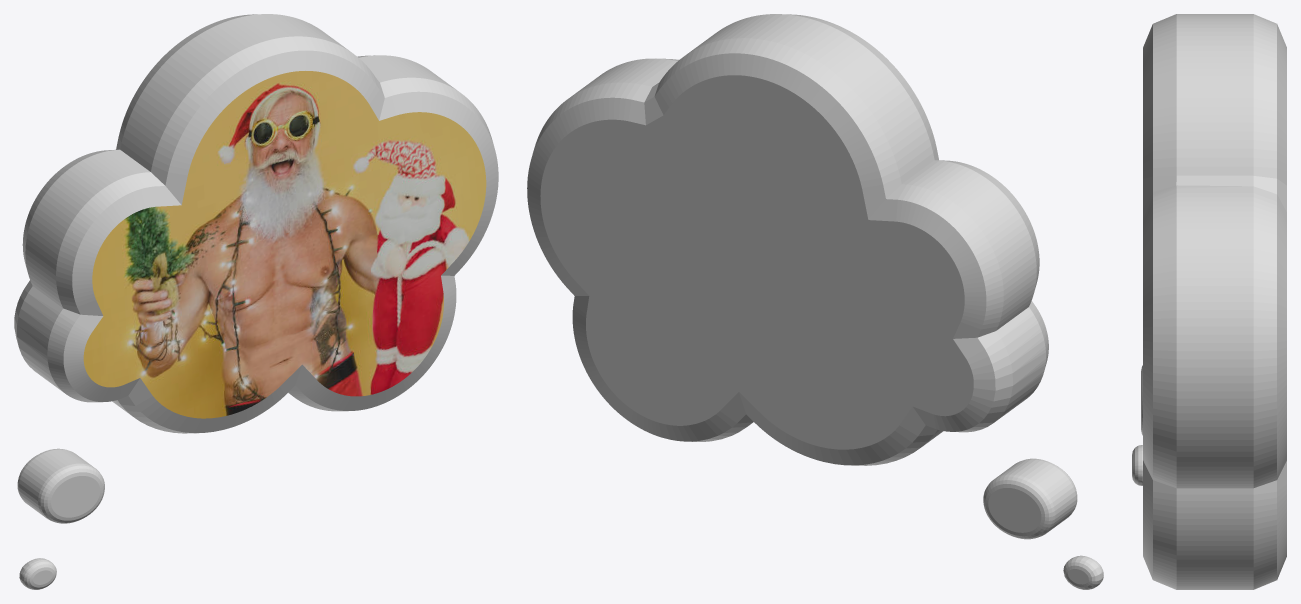
File: scene4_thoughts.glb
The picture shows the model from 3 angles, left to right: view 1: azimuth 30°, elevation 25°; view 2: azimuth 150°, elevation 25°; view 3: azimuth 270°, elevation 25°; orthographic projection. The views are drawn at different scales.
Visible parts, largest first — view 1: SpeechBubble; view 2: SpeechBubble; view 3: SpeechBubble.
Part boxes in pixels (left/top/right/bottom): SpeechBubble: left=14, top=14, right=498, bottom=589; SpeechBubble: left=527, top=14, right=1103, bottom=589; SpeechBubble: left=1132, top=14, right=1286, bottom=589.
Bounding box in the file's own units: 2.26 × 2.12 × 0.4938.
2 materials, 1 textured.
